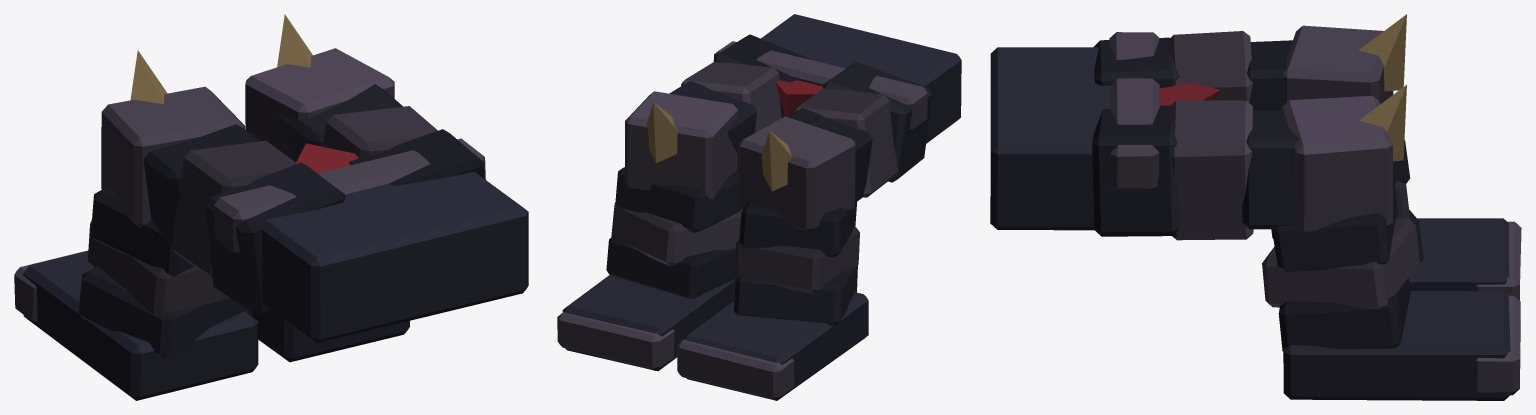
Rendered from soberano_base.fbx.
3 views of the same model, side by side, from view 1: azimuth 30°, elevation 25°; view 2: azimuth 150°, elevation 25°; view 3: azimuth 270°, elevation 25° (orthographic). The views are drawn at different scales.
Visible parts, largest first — view 1: soberano_base; view 2: soberano_base; view 3: soberano_base.
Boxes of the visible parts, x1=… form: soberano_base: x1=14, y1=14, x2=528, y2=400; soberano_base: x1=557, y1=14, x2=961, y2=400; soberano_base: x1=990, y1=14, x2=1521, y2=400.
Bounding box in the file's own units: 3.32 × 3.21 × 5.37.
